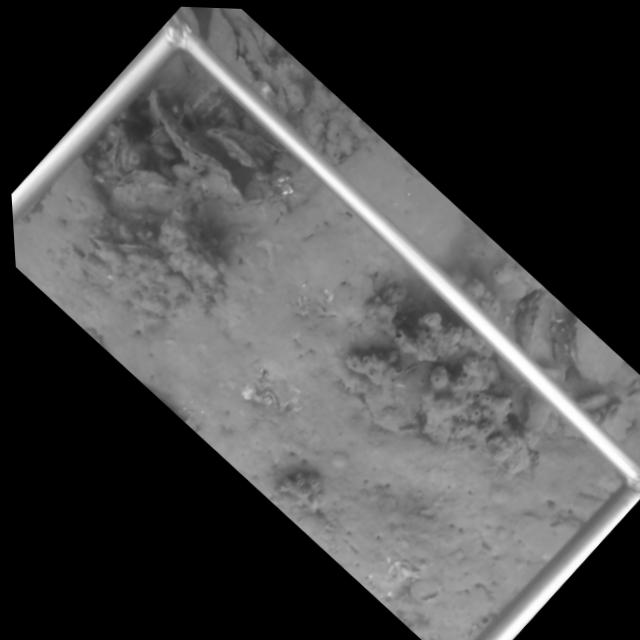Oyster-Closed: (149, 88, 246, 208), (516, 288, 559, 369)
Oyster-Indeterminate: (352, 359, 441, 434), (204, 8, 243, 67), (275, 83, 292, 114)
